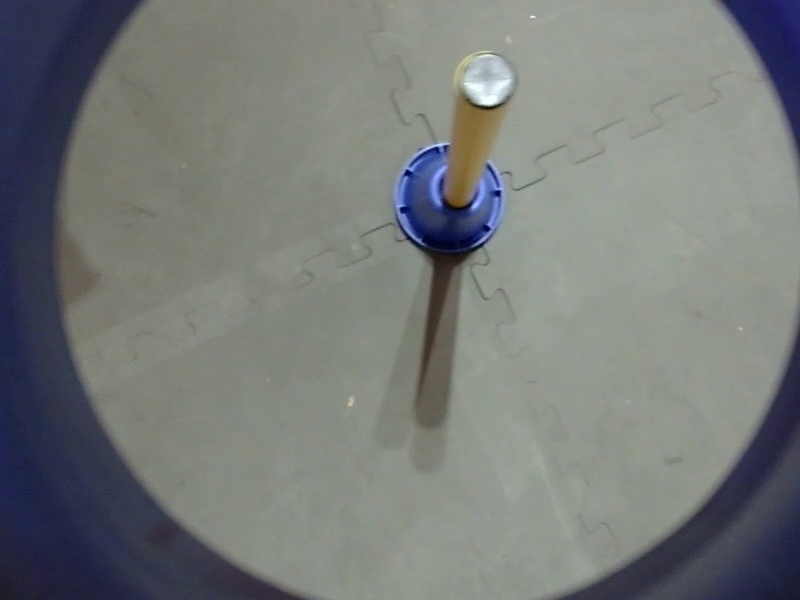tip: (260, 112, 364, 210)
